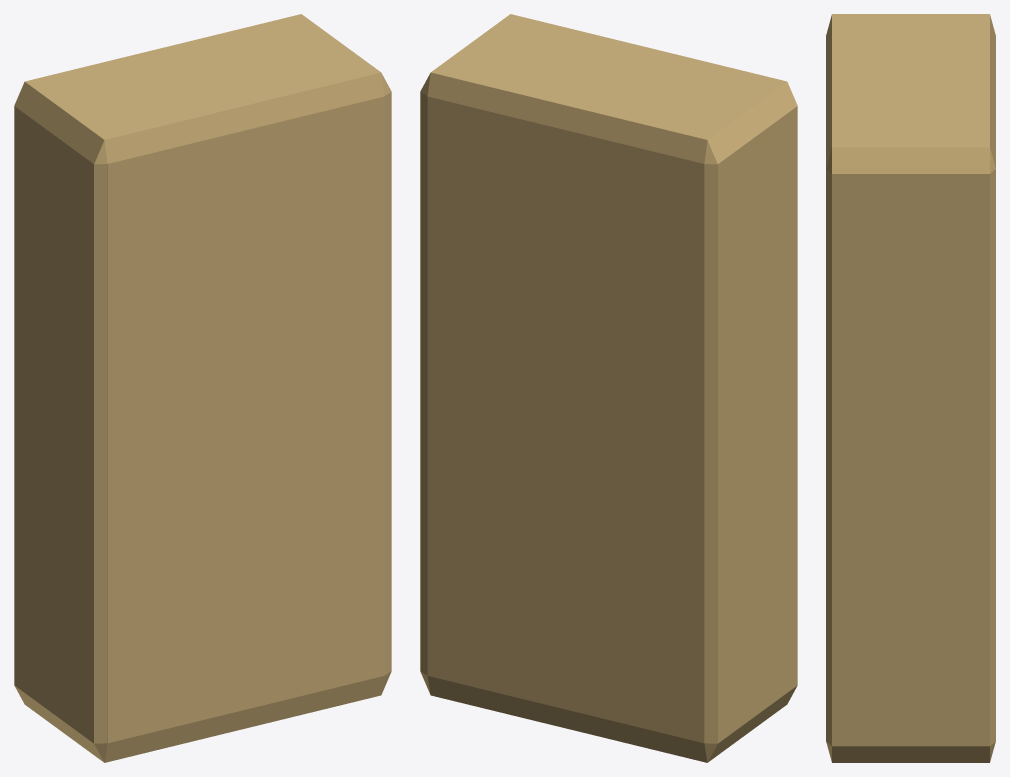
File: wall5 1.fbx
The picture shows the model from 3 angles, left to right: view 1: azimuth 30°, elevation 25°; view 2: azimuth 150°, elevation 25°; view 3: azimuth 270°, elevation 25°; orthographic projection.
Parts seen in each view (by area): view 1: Cube.517; view 2: Cube.517; view 3: Cube.517.
Boxes of the visible parts, box(x1,y1,x2,y2) form: Cube.517: box(14, 14, 391, 762); Cube.517: box(420, 14, 797, 762); Cube.517: box(826, 14, 995, 762).
Size of the model in its own units: 50 by 100 by 200.
